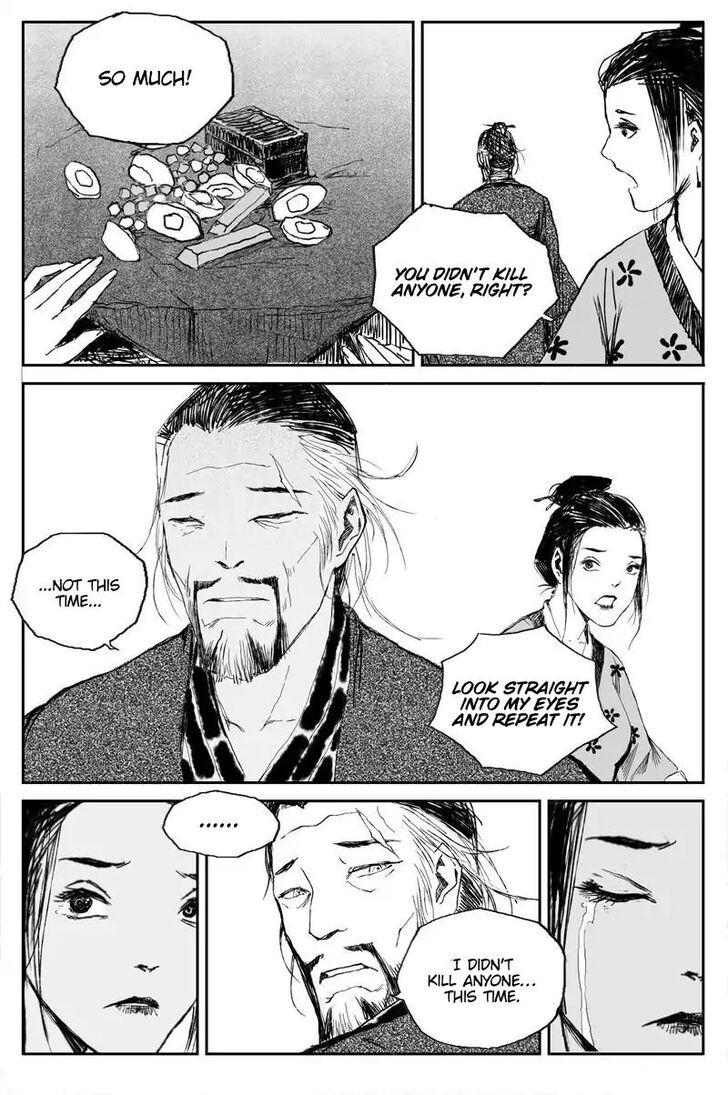Bubble: (370, 202, 560, 360), (423, 624, 618, 777), (394, 905, 568, 1050), (53, 10, 237, 147), (10, 530, 149, 652), (161, 788, 281, 859)
